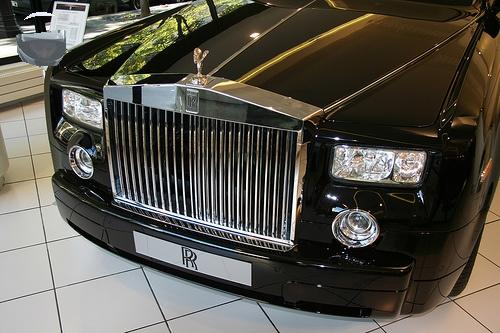tampered: (17, 13, 66, 68)
